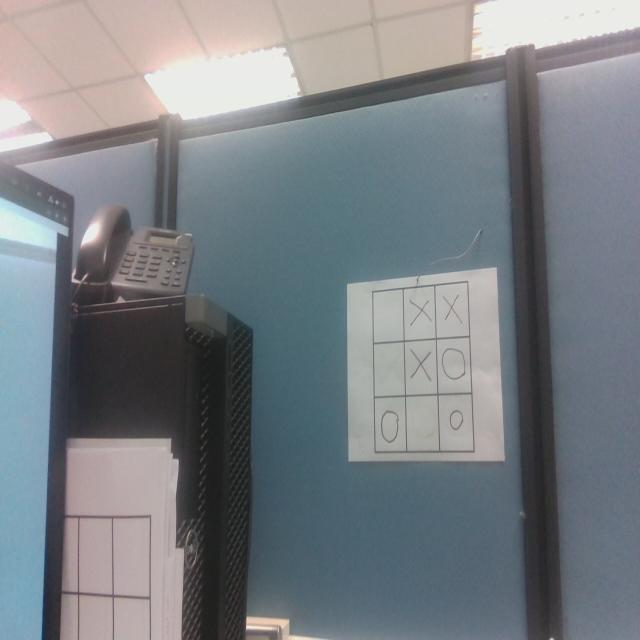null: (113, 516, 150, 600), (78, 516, 113, 596), (78, 593, 113, 639), (374, 289, 403, 343)
o: (413, 401, 438, 440), (377, 407, 401, 445), (441, 345, 467, 380), (445, 407, 466, 432)
table: (371, 278, 471, 457)
x: (406, 346, 434, 382), (406, 294, 434, 327), (440, 291, 466, 326), (380, 349, 402, 387)
